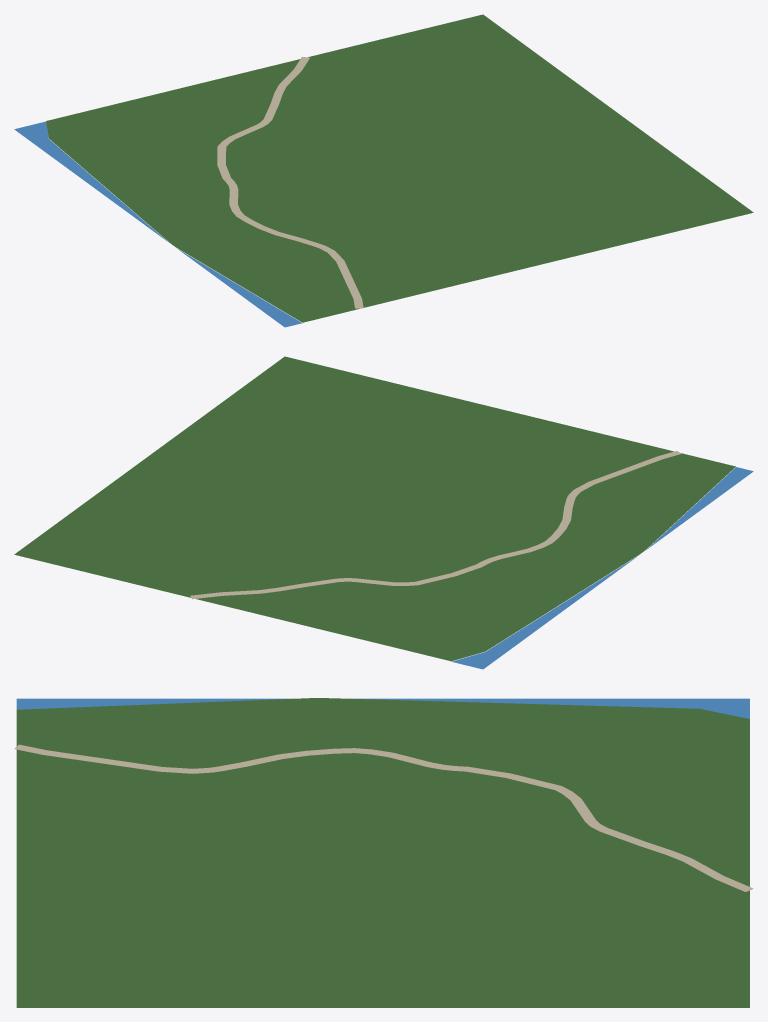
The picture shows the model from 3 angles, top to bottom: view 1: azimuth 30°, elevation 25°; view 2: azimuth 150°, elevation 25°; view 3: azimuth 270°, elevation 25°; orthographic projection. The views are drawn at different scales.
Visible parts, largest first — view 1: ground, water; view 2: ground, water; view 3: ground, water.
Part boxes in pixels (x1,y1,x2,y2): ground: (46, 14, 753, 322); water: (14, 121, 302, 327); ground: (14, 356, 735, 661); water: (451, 467, 753, 669); ground: (14, 698, 753, 1007); water: (16, 698, 749, 718).
Bounding box in the file's own units: 500 × 0.8 × 505.
